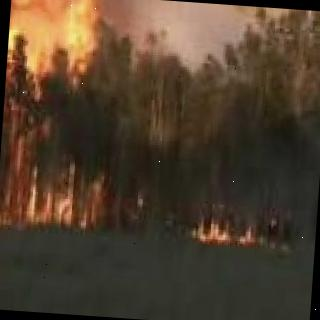fire: (0, 0, 119, 236), (190, 206, 262, 248)
